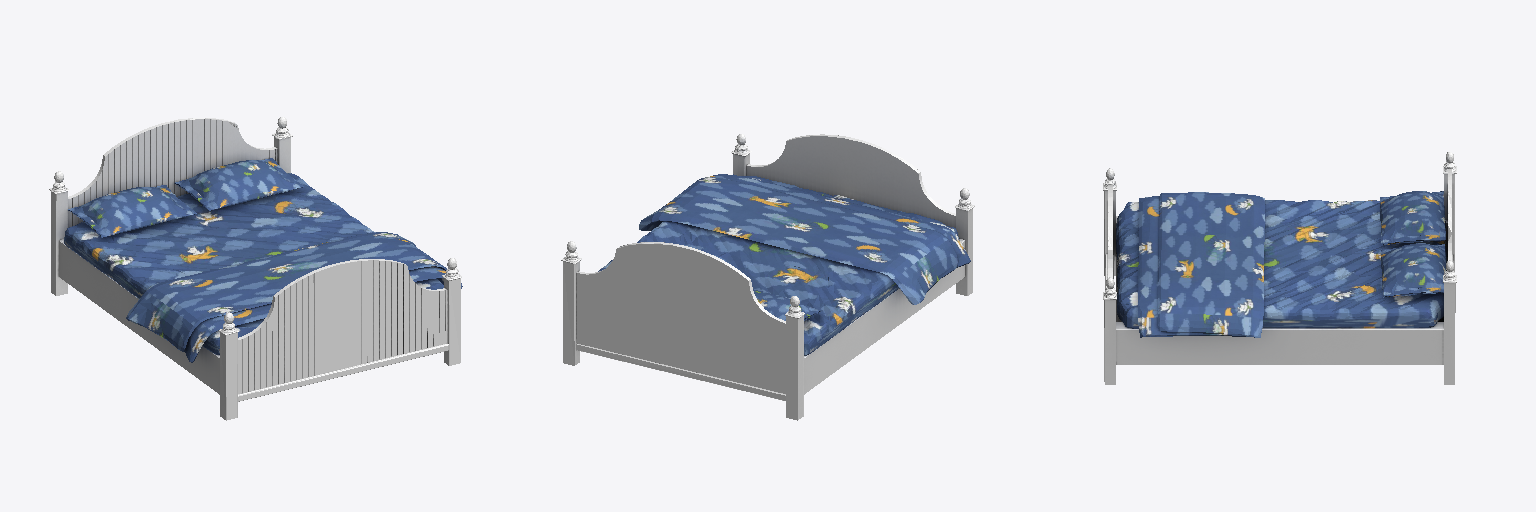
The picture shows the model from 3 angles: view 1: azimuth 30°, elevation 25°; view 2: azimuth 150°, elevation 25°; view 3: azimuth 270°, elevation 25°; orthographic projection.
Parts seen in each view (by area): view 1: solid_001, solid_002; view 2: solid_001, solid_002; view 3: solid_002, solid_001.
Boxes of the visible parts, x1=… form: solid_001: x1=49, y1=117, x2=461, y2=420; solid_002: x1=64, y1=158, x2=462, y2=362; solid_001: x1=561, y1=134, x2=974, y2=420; solid_002: x1=598, y1=174, x2=970, y2=355; solid_002: x1=1116, y1=191, x2=1446, y2=337; solid_001: x1=1103, y1=152, x2=1456, y2=384.
Size of the model in its own units: 2.12 by 1.02 by 2.28.
Materials: 1 (1 with a texture image).